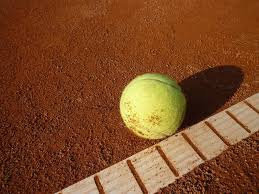tennis_ball: (119, 72, 187, 141)
